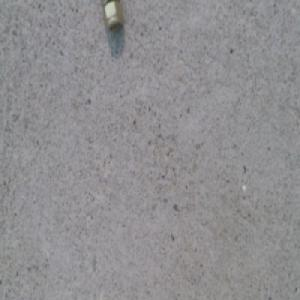BoltNutSet: (107, 0, 127, 37)
